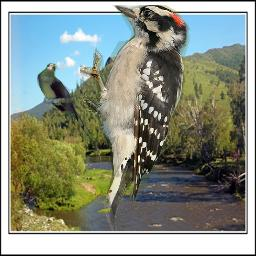Cuckoo: (37, 63, 97, 140)
Woodpecker: (80, 5, 191, 231)
